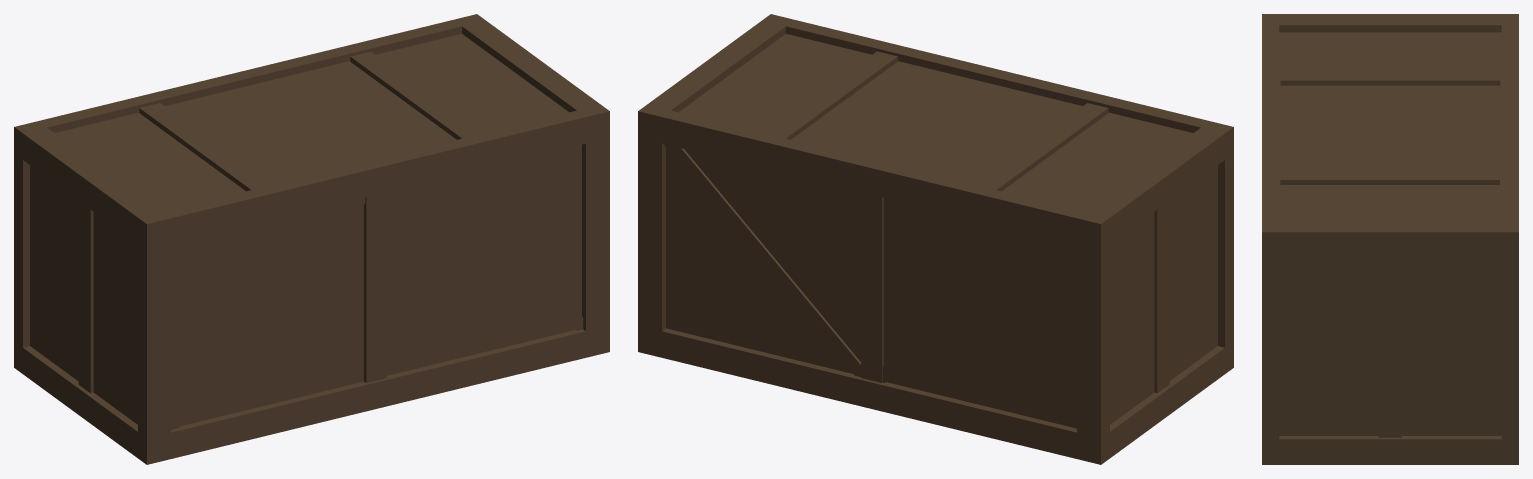
The model's file is crate_02.fbx.
The picture shows the model from 3 angles, left to right: view 1: azimuth 30°, elevation 25°; view 2: azimuth 150°, elevation 25°; view 3: azimuth 270°, elevation 25°; orthographic projection. The views are drawn at different scales.
Visible parts, largest first — view 1: crate_02; view 2: crate_02; view 3: crate_02.
Boxes of the visible parts, x1,y1,x2,y2 form: crate_02: [14, 14, 609, 464]; crate_02: [638, 14, 1233, 464]; crate_02: [1262, 14, 1518, 464].
Bounding box in the file's own units: 44.65 × 22.19 × 22.19.
